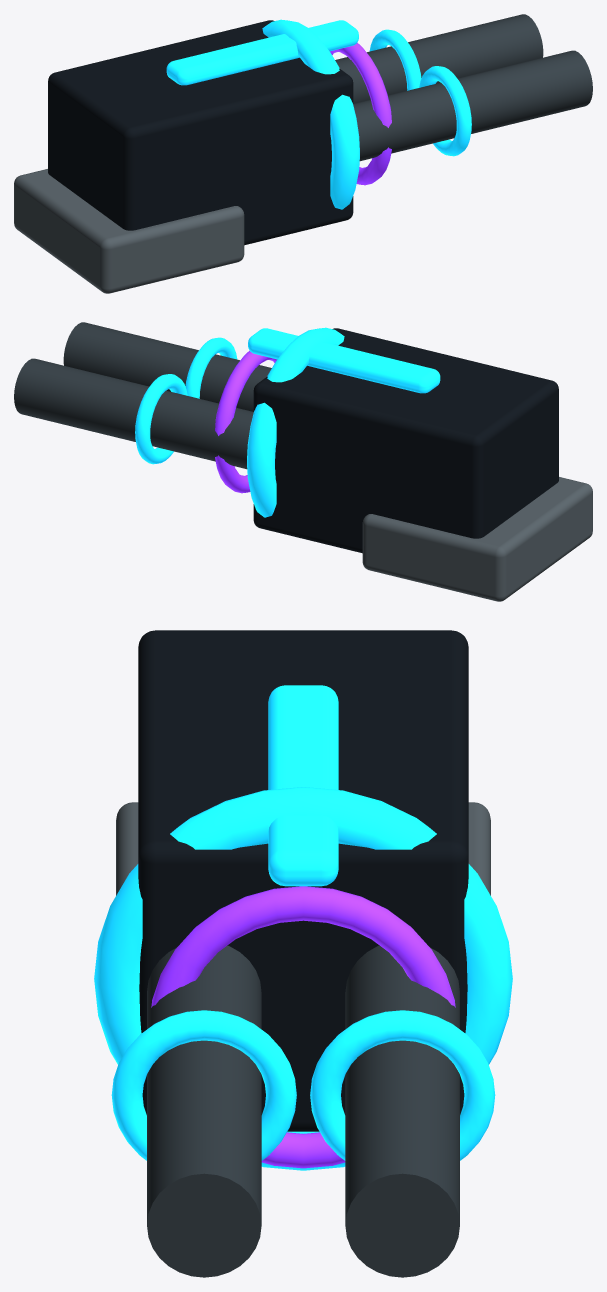
3 renders of one model, top to bottom at view 1: azimuth 30°, elevation 25°; view 2: azimuth 150°, elevation 25°; view 3: azimuth 270°, elevation 25°, orthographic. The views are drawn at different scales.
Bounding box in the file's own units: 5.2 × 1.9 × 1.9.
